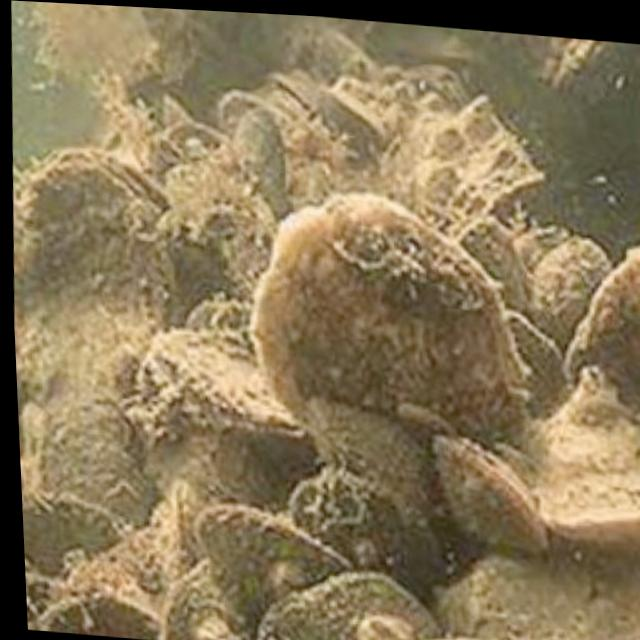Oyster-Closed: (250, 190, 531, 449), (13, 146, 175, 383), (140, 326, 308, 440), (44, 394, 139, 454), (555, 39, 636, 103), (270, 74, 340, 136), (322, 90, 384, 141)
Oyster-Indeterminate: (289, 468, 444, 593), (534, 372, 640, 544), (193, 503, 351, 618), (257, 567, 441, 640), (437, 433, 550, 547), (566, 254, 640, 405), (38, 433, 157, 524), (529, 233, 614, 347), (22, 493, 123, 576), (163, 559, 258, 640), (461, 219, 531, 315), (230, 107, 288, 215), (509, 310, 571, 410), (37, 593, 161, 640), (172, 473, 207, 565), (218, 90, 288, 136), (166, 122, 224, 162)
